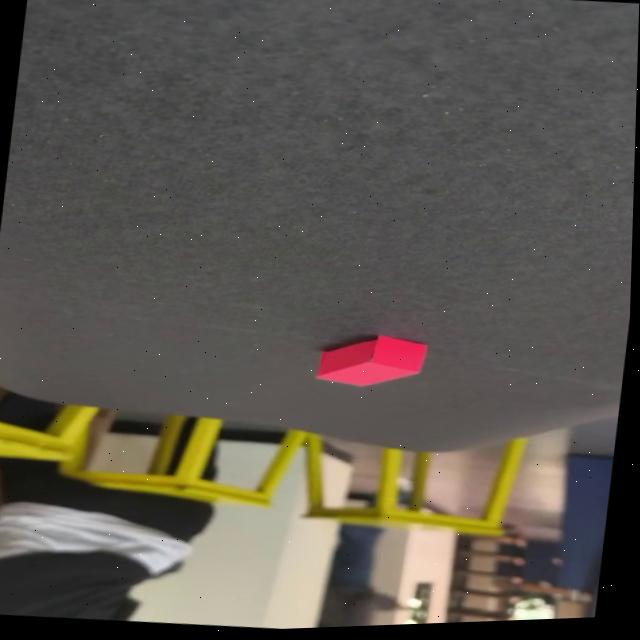red block: (312, 328, 428, 393)
